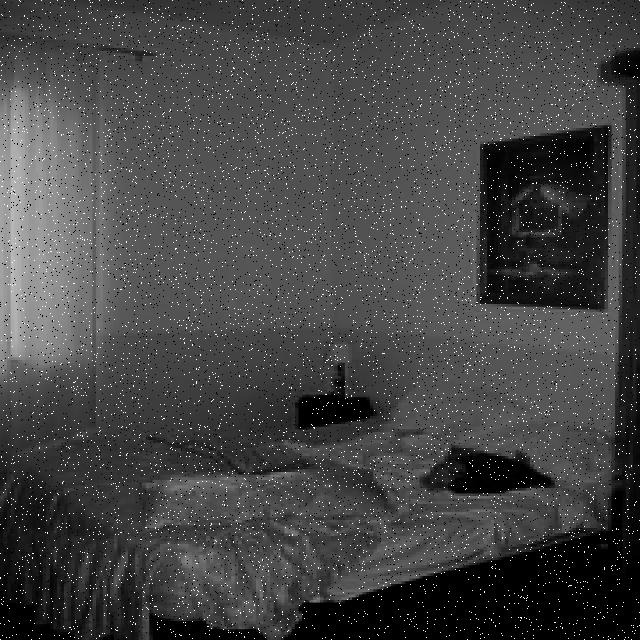bed: (0, 368, 622, 595)
